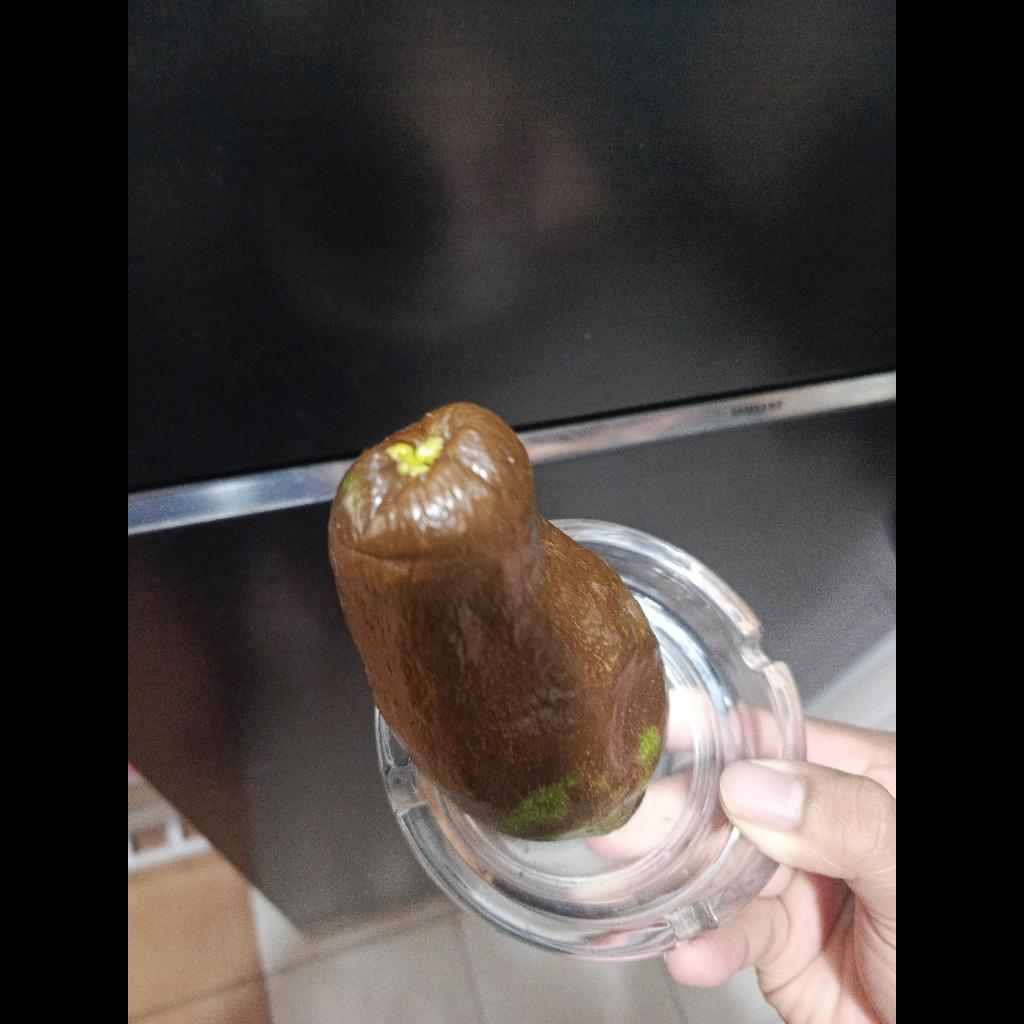pudricion_peduncular: (329, 403, 666, 840)
